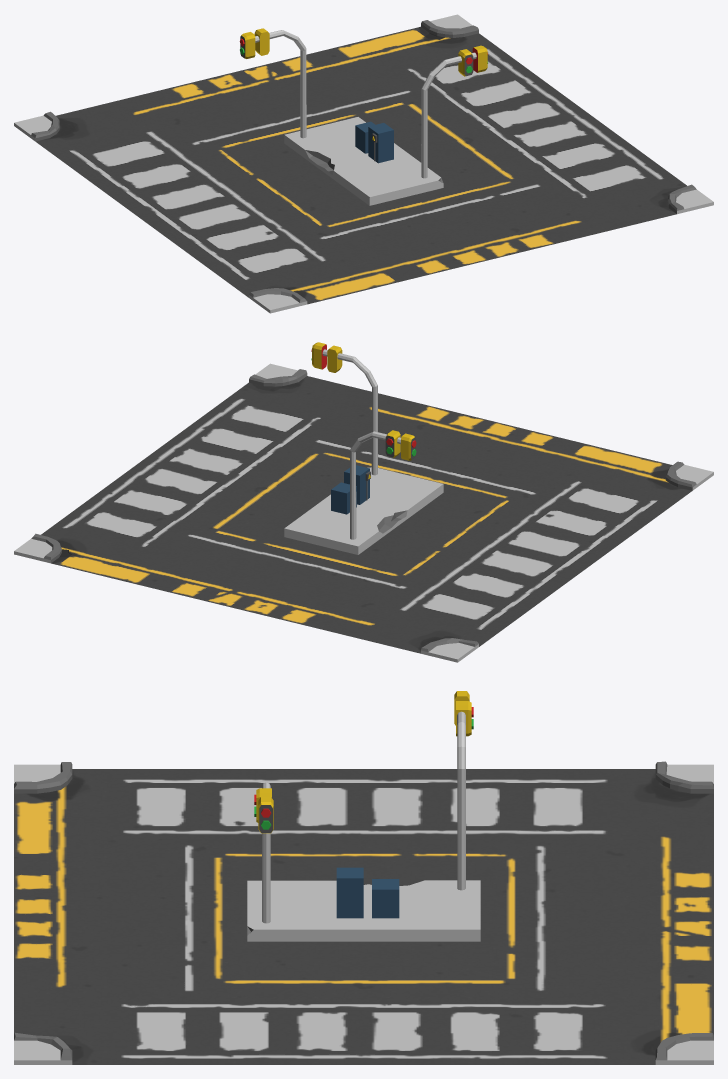
Rendered from Highway_Crossway_B.fbx.
3 views of the same model, one above another, from view 1: azimuth 30°, elevation 25°; view 2: azimuth 150°, elevation 25°; view 3: azimuth 270°, elevation 25° (orthographic). The views are drawn at different scales.
Parts seen in each view (by area): view 1: Highway_Crossway_B; view 2: Highway_Crossway_B; view 3: Highway_Crossway_B.
Boxes of the visible parts, left/top/right/bottom form: Highway_Crossway_B: left=14, top=14, right=713, bottom=313; Highway_Crossway_B: left=14, top=342, right=713, bottom=662; Highway_Crossway_B: left=14, top=691, right=713, bottom=1064.
Size of the model in its own units: 2400 by 653 by 2400.
